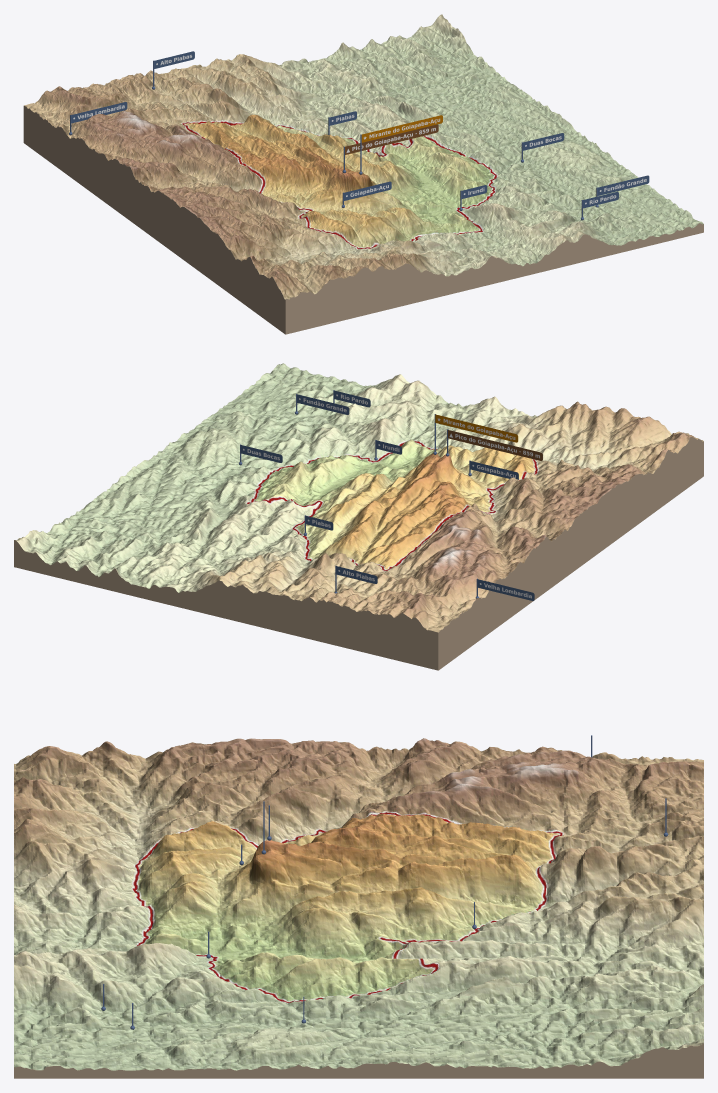
Rendered from goiapaba-acu.glb.
The picture shows the model from 3 angles, top to bottom: view 1: azimuth 30°, elevation 25°; view 2: azimuth 150°, elevation 25°; view 3: azimuth 270°, elevation 25°; orthographic projection. The views are drawn at different scales.
Parts seen in each view (by area): view 1: relevo, base, bandeiras; view 2: relevo, base, bandeiras; view 3: relevo, base, hastes.
Boxes of the visible parts, <box> form: relevo: <box>24,14,703,299</box>; base: <box>23,106,703,334</box>; bandeiras: <box>71,51,649,208</box>; relevo: <box>14,363,703,632</box>; base: <box>14,437,703,670</box>; bandeiras: <box>240,390,542,600</box>; relevo: <box>14,738,703,1070</box>; base: <box>14,1044,703,1078</box>; hastes: <box>101,735,668,1029</box>.
Bounding box in the file's own units: 0.6747 × 0.1221 × 0.6497.
4 materials, 2 textured.
